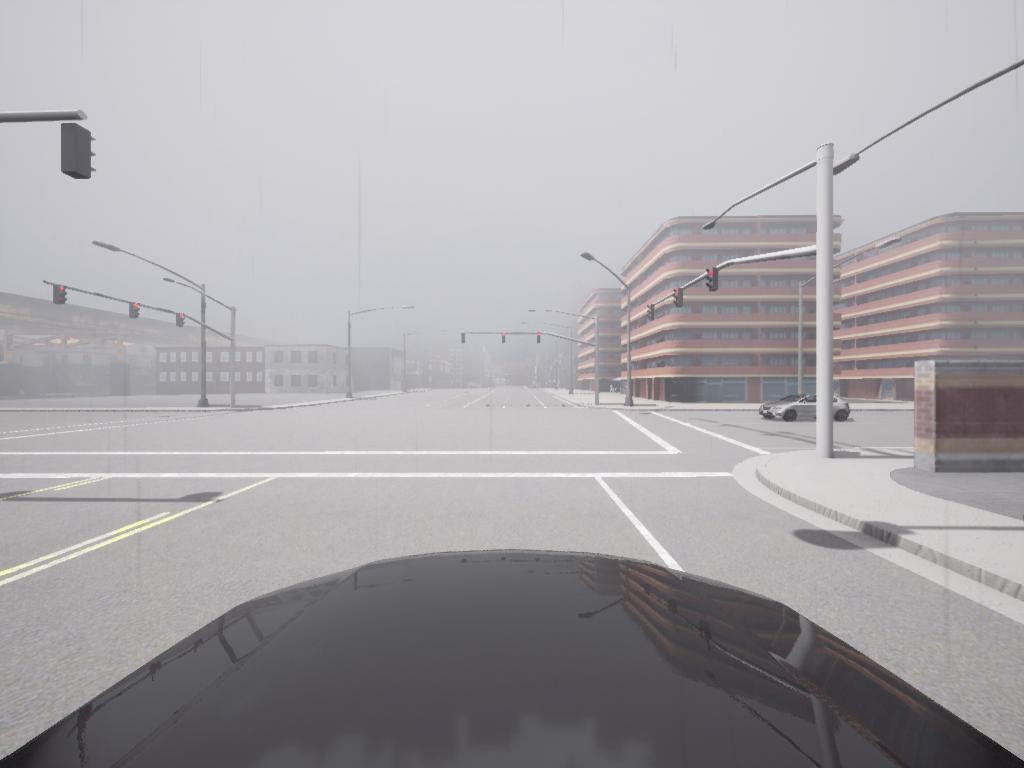traffic_light: (63, 125, 97, 183), (54, 285, 67, 305), (706, 269, 717, 292), (130, 303, 141, 321), (675, 289, 684, 308), (178, 313, 186, 329), (647, 306, 655, 321), (501, 333, 507, 345), (538, 333, 542, 345), (462, 334, 466, 345)
